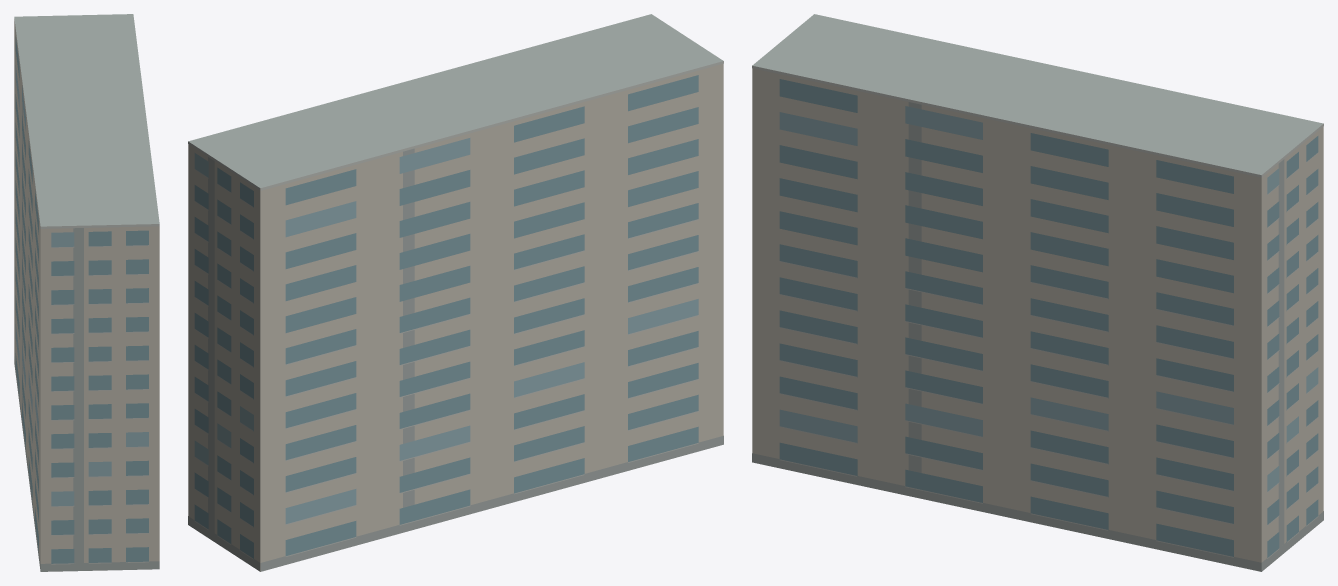
Rendered from residential-543ecf31-e1b7-48ab-8a9e-c4a6ffe47b1e.glb.
The picture shows the model from 3 angles, left to right: view 1: azimuth 30°, elevation 25°; view 2: azimuth 150°, elevation 25°; view 3: azimuth 270°, elevation 25°; orthographic projection. The views are drawn at different scales.
Parts seen in each view (by area): view 1: residential-543ecf31-e1b7-48ab-8a9e-c4a6ffe47b1e.tmp; view 2: residential-543ecf31-e1b7-48ab-8a9e-c4a6ffe47b1e.tmp; view 3: residential-543ecf31-e1b7-48ab-8a9e-c4a6ffe47b1e.tmp.
Boxes of the visible parts, x1,y1,x2,y2 form: residential-543ecf31-e1b7-48ab-8a9e-c4a6ffe47b1e.tmp: [14, 14, 159, 571]; residential-543ecf31-e1b7-48ab-8a9e-c4a6ffe47b1e.tmp: [188, 14, 723, 571]; residential-543ecf31-e1b7-48ab-8a9e-c4a6ffe47b1e.tmp: [752, 14, 1323, 571].
Bounding box in the file's own units: 31.9 × 36.6 × 47.8.
